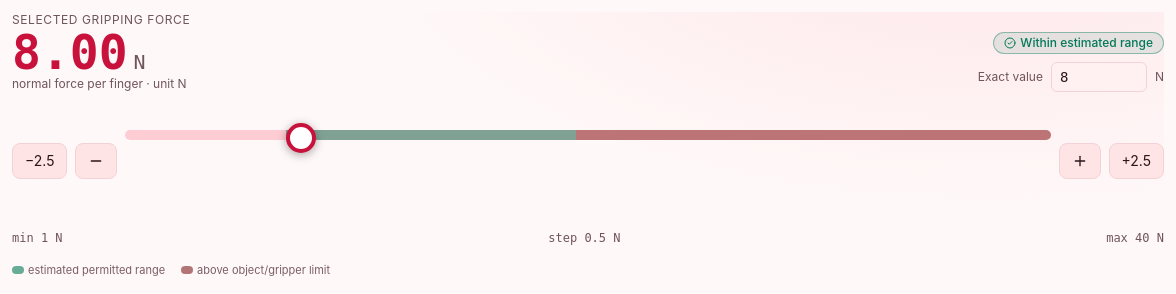
Scenario: force slider › is a real control: moving it updates the selected target
expect the element with test id "selected-force" shows "8.00": met, box [12, 24, 128, 80]
Set the slider named "Gripping force (N)" to "12": (390, 138) [126, 116, 1050, 160]
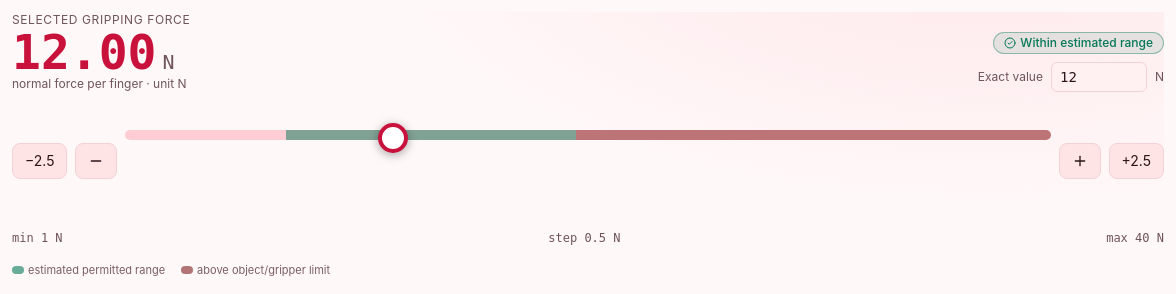
expect the element with test id "selected-force" shows "12.00": met, box [12, 24, 156, 80]
